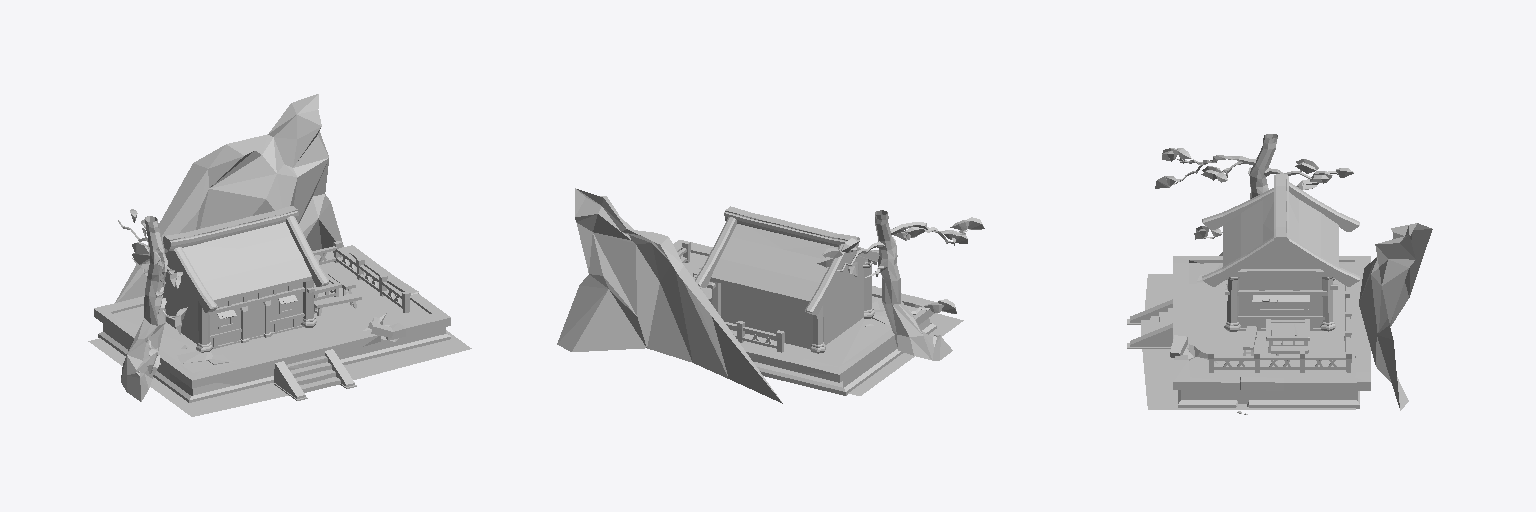
Rendered from house.obj.
3 views of the same model, side by side, from view 1: azimuth 30°, elevation 25°; view 2: azimuth 150°, elevation 25°; view 3: azimuth 270°, elevation 25° (orthographic).
Parts seen in each view (by area): view 1: ____003, Plane002, Box025, Cylinder001; view 2: Plane002, ____003, Box025, Cylinder001; view 3: ____003, Box025, Plane002, Cylinder001.
Boxes of the visible parts, <box> form: ____003: <box>88,222,471,416</box>; Plane002: <box>115,94,343,302</box>; Box025: <box>132,206,410,352</box>; Cylinder001: <box>118,216,174,401</box>; Plane002: <box>557,188,782,403</box>; ____003: <box>673,224,963,395</box>; Box025: <box>677,206,879,353</box>; Cylinder001: <box>837,210,969,360</box>; ____003: <box>1127,192,1370,414</box>; Box025: <box>1202,174,1359,372</box>; Plane002: <box>1359,223,1432,410</box>; Cylinder001: <box>1173,134,1337,255</box>.
Size of the model in its own units: 1694 by 861 by 1420.